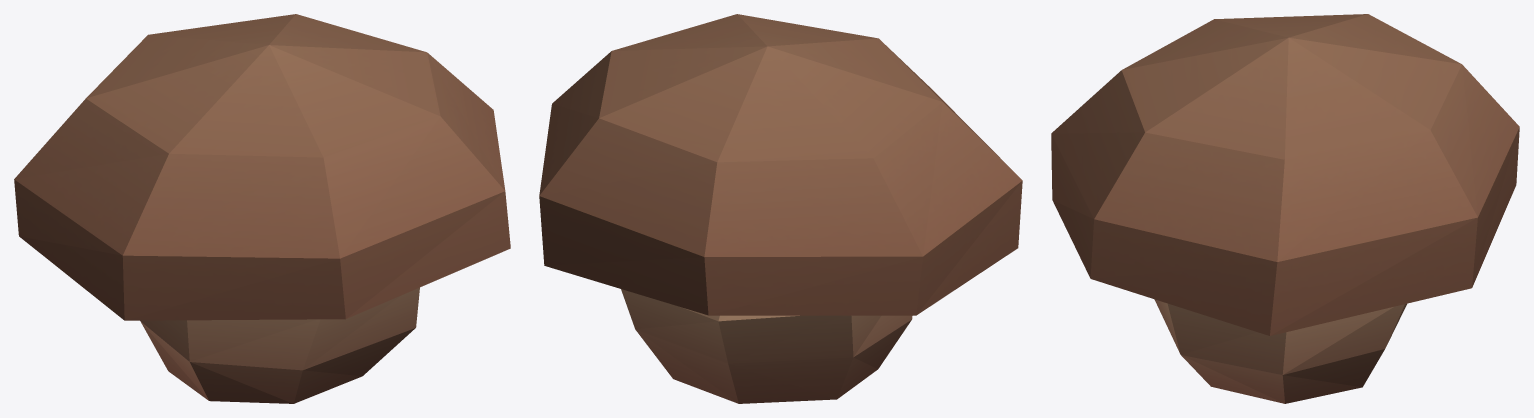
File: Cavern_MushroomThick-03.fbx
3 views of the same model, side by side, from view 1: azimuth 30°, elevation 25°; view 2: azimuth 150°, elevation 25°; view 3: azimuth 270°, elevation 25° (orthographic).
Parts seen in each view (by area): view 1: Cavern_MushroomThick-03; view 2: Cavern_MushroomThick-03; view 3: Cavern_MushroomThick-03.
Part boxes in pixels (left/top/right/bottom): Cavern_MushroomThick-03: left=14, top=14, right=510, bottom=403; Cavern_MushroomThick-03: left=539, top=14, right=1022, bottom=403; Cavern_MushroomThick-03: left=1051, top=14, right=1519, bottom=403.
Bounding box in the file's own units: 42.24 × 30.03 × 39.6.
1 material, 1 textured.
